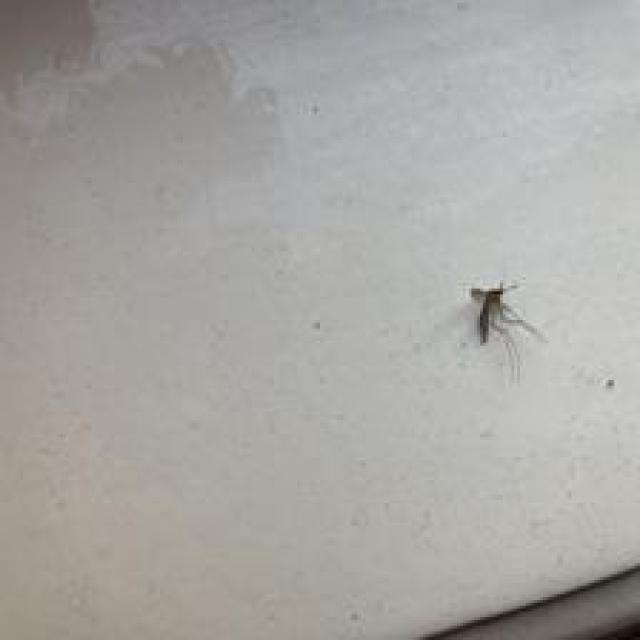Culex: (467, 278, 547, 382)
